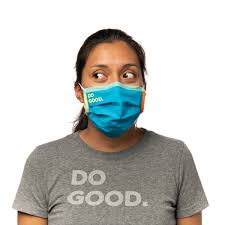mask: (72, 27, 150, 143)
